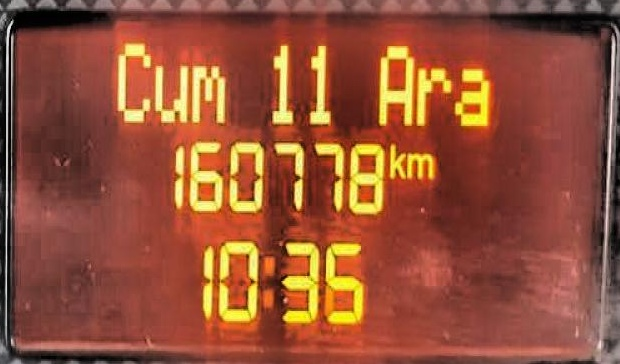0: (215, 237, 258, 326), (227, 137, 264, 216)
1: (269, 35, 297, 129), (305, 34, 331, 127), (199, 239, 214, 322), (171, 134, 187, 210)
3: (281, 237, 318, 326)
5: (323, 239, 363, 327)
6: (188, 137, 223, 214)
7: (310, 135, 343, 209), (270, 137, 303, 207)
8: (347, 137, 383, 216)
X: (112, 37, 151, 124), (376, 39, 413, 125), (451, 62, 495, 132), (151, 57, 187, 126), (416, 57, 450, 129), (189, 59, 227, 122), (405, 149, 435, 180), (260, 249, 273, 309), (388, 139, 404, 179)
